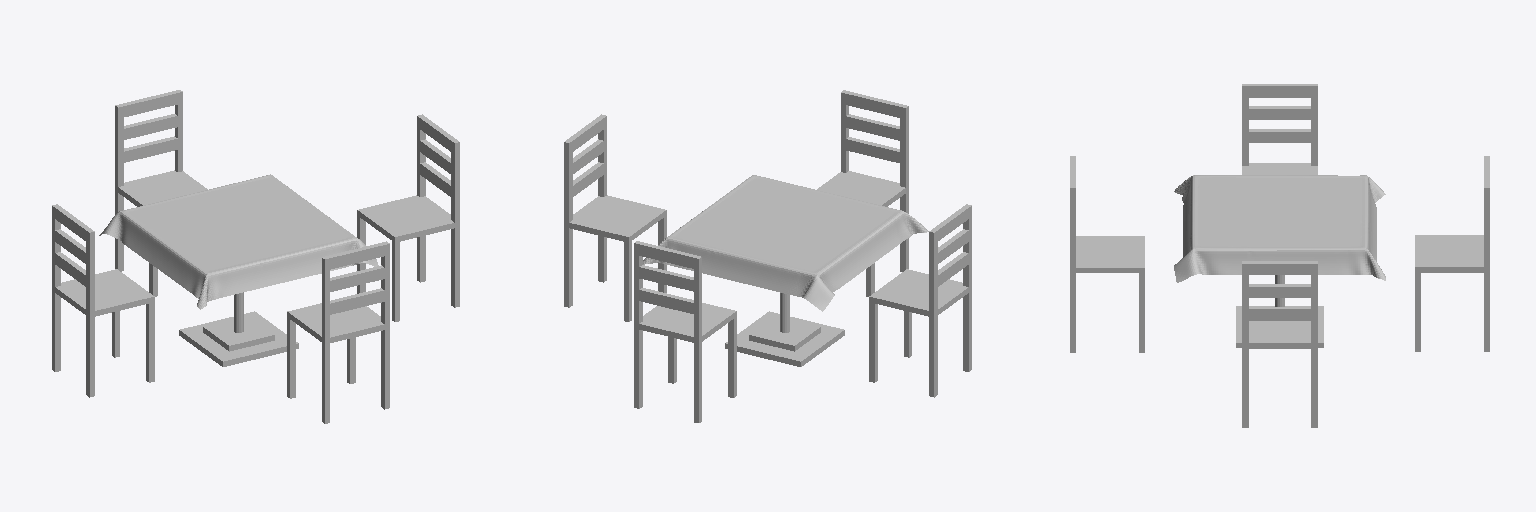
The model's file is Table2.obj.
3 views of the same model, side by side, from view 1: azimuth 30°, elevation 25°; view 2: azimuth 150°, elevation 25°; view 3: azimuth 270°, elevation 25° (orthographic).
Parts seen in each view (by area): view 1: Plane003, Box004, Box017, Box037, Box003, Box027, Box002, Box044, Box045, Box046, Box034, Box036 (+15 smaller); view 2: Plane003, Box004, Box017, Box027, Box003, Box037, Box002, Box034, Box035, Box036, Box044, Box045 (+15 smaller); view 3: Plane003, Box027, Box037, Box004, Box017, Box024, Box025, Box026, Box016, Box012, Box014, Box022 (+6 smaller).
Part boxes in pixels (x1,y1,x2,y2): Plane003: (99,174,378,309); Box004: (357,195,459,242); Box017: (52,269,154,317); Box037: (287,303,389,344); Box003: (179,311,298,366); Box027: (115,170,207,206); Box002: (203,316,274,351); Box044: (328,243,384,269); Box045: (330,265,384,291); Box046: (330,288,384,314); Box034: (121,91,177,116); Box036: (124,136,177,162); Plane003: (643,175,928,311); Box004: (564,195,666,242); Box017: (869,269,971,317); Box027: (634,303,736,343); Box003: (725,311,844,366); Box037: (817,171,908,206); Box002: (749,316,820,351); Box034: (639,242,696,268); Box035: (639,265,693,291); Box036: (639,288,693,313); Box044: (846,91,902,117); Box045: (846,114,899,140); Plane003: (1174,175,1385,282); Box027: (1415,235,1489,272); Box037: (1070,236,1144,272); Box004: (1242,321,1317,348); Box017: (1242,163,1317,174); Box024: (1249,84,1310,97); Box025: (1249,106,1310,119); Box026: (1249,129,1310,142); Box016: (1249,307,1310,320); Box012: (1249,261,1310,274); Box014: (1249,284,1310,297); Box022: (1242,84,1248,165).
Bounding box in the file's own units: 341 × 146 × 335.